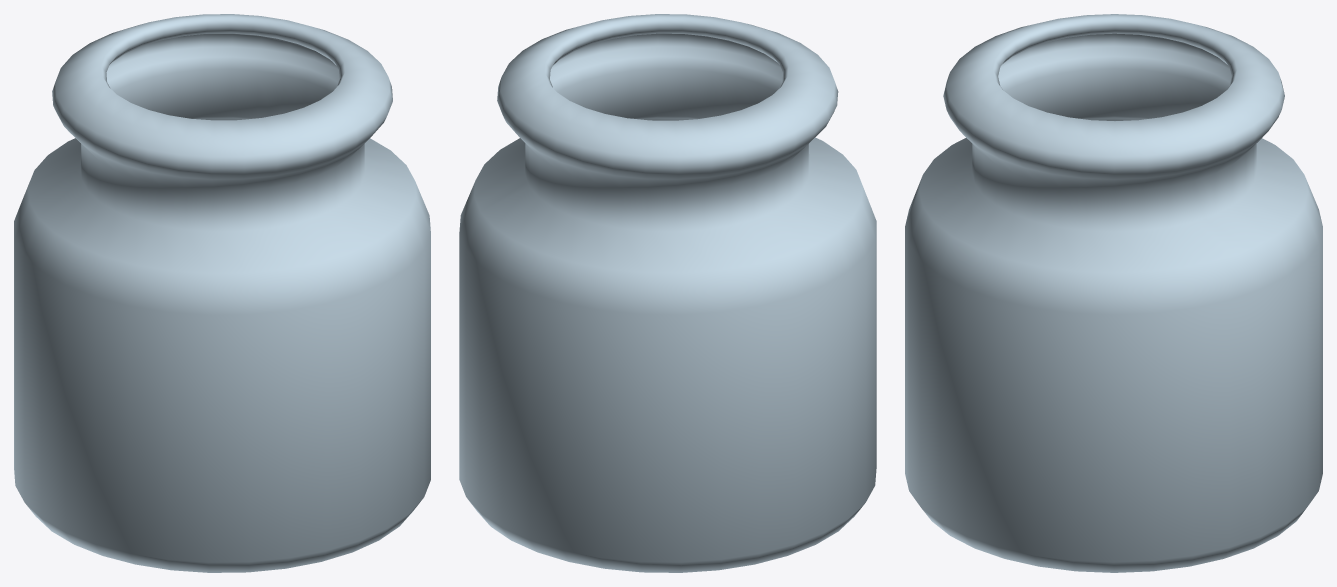
Rendered from Bottle.fbx.
3 renders of one model, left to right at view 1: azimuth 30°, elevation 25°; view 2: azimuth 150°, elevation 25°; view 3: azimuth 270°, elevation 25°, orthographic.
Visible parts, largest first — view 1: Cylinder; view 2: Cylinder; view 3: Cylinder.
Boxes of the visible parts, x1,y1,x2,y2 form: Cylinder: [14, 14, 430, 572]; Cylinder: [459, 14, 876, 572]; Cylinder: [905, 14, 1322, 572].
Size of the model in its own units: 92.06 by 102 by 92.06.
